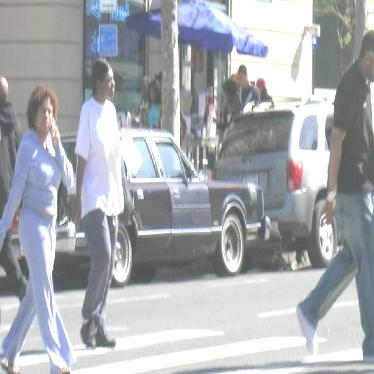ped: (297, 29, 374, 362), (1, 87, 77, 374), (77, 61, 126, 348)
